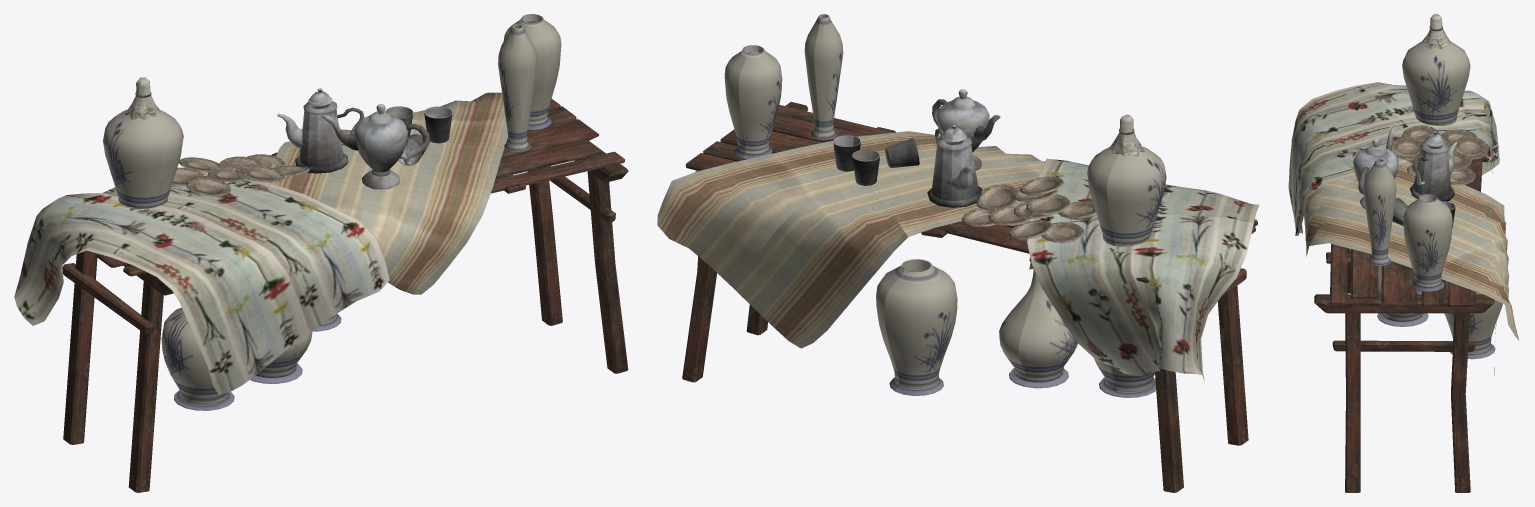
The model's file is TW2_9_ADDONS_04_3_1-transformed.glb.
3 views of the same model, side by side, from view 1: azimuth 30°, elevation 25°; view 2: azimuth 150°, elevation 25°; view 3: azimuth 270°, elevation 25° (orthographic). The views are drawn at different scales.
Visible parts, largest first — view 1: default; view 2: default; view 3: default.
Part boxes in pixels (left/top/right/bottom): default: left=14, top=14, right=628, bottom=492; default: left=657, top=14, right=1258, bottom=492; default: left=1288, top=14, right=1519, bottom=492.
Bounding box in the file's own units: 3.21 × 2.06 × 1.44.
1 material, 1 textured.
